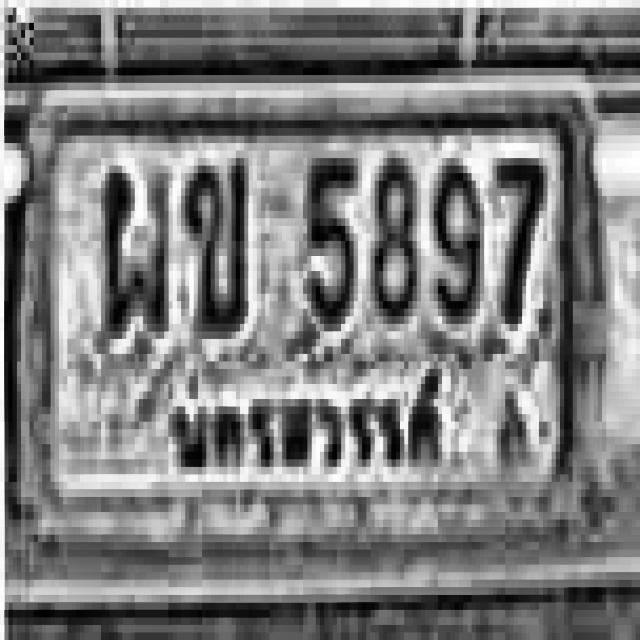license-plate: (16, 66, 604, 571)
